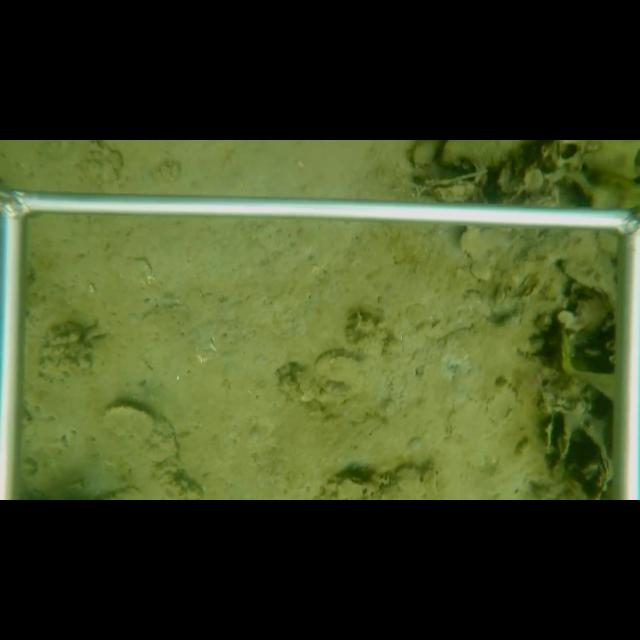Oyster-Closed: (104, 402, 181, 466)
